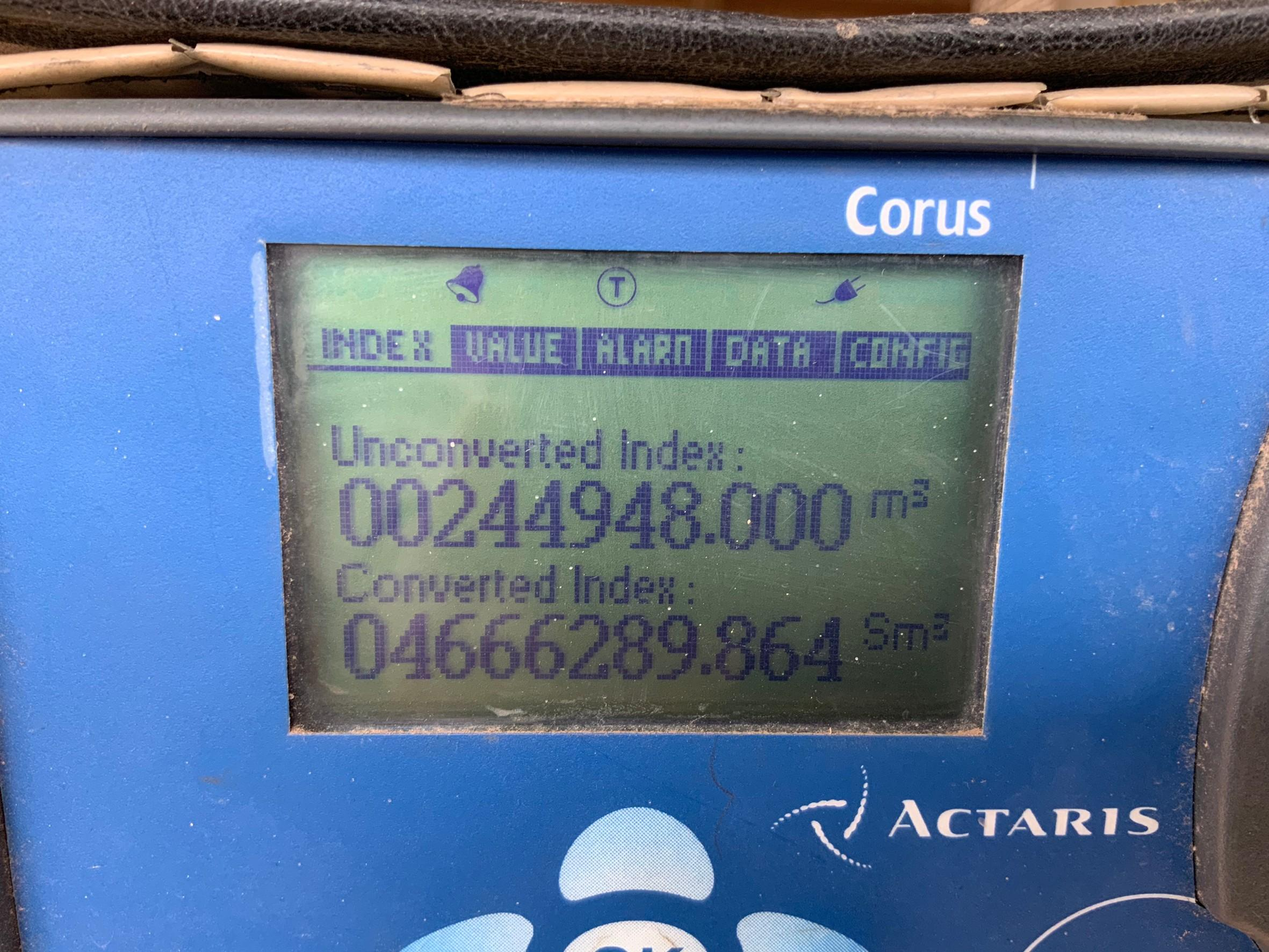digital_screen: (265, 243, 1023, 736)
